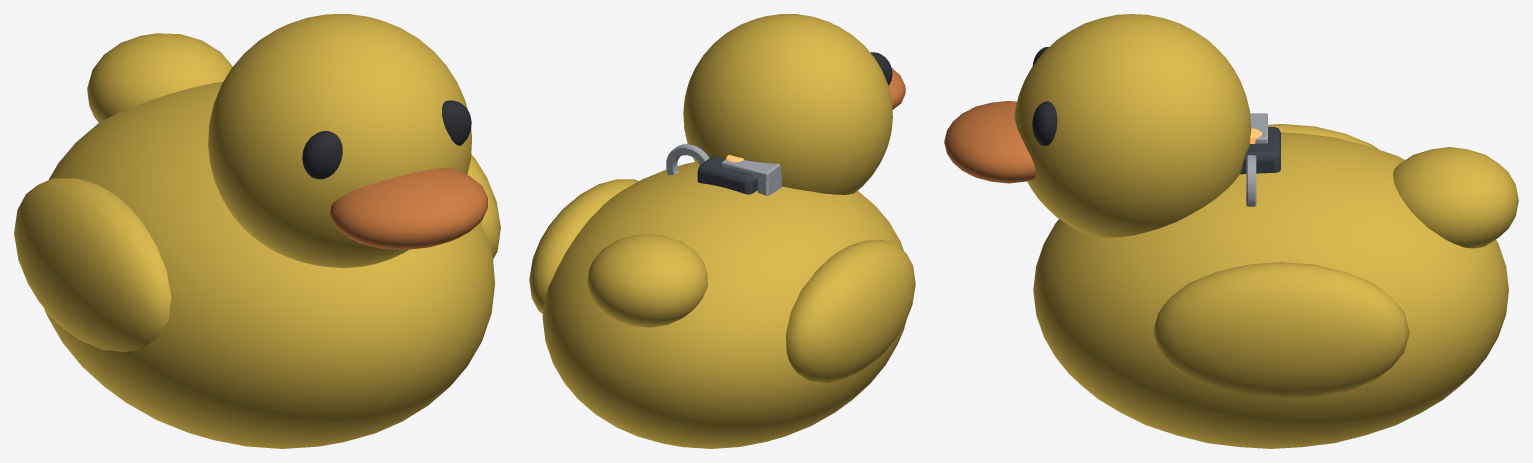
The model's file is items_upload_b6.glb.
3 renders of one model, left to right at view 1: azimuth 30°, elevation 25°; view 2: azimuth 150°, elevation 25°; view 3: azimuth 270°, elevation 25°, orthographic. The views are drawn at different scales.
Visible parts, largest first — view 1: duck_body__pd6b445, duck_beak__pc9773d, duck_eye__p2b2d33; view 2: duck_body__pd6b445, frag_fuse__p3b3f48, frag_spoon__pa3a8b0, frag_ring__pa3a8b0, duck_beak__pc9773d; view 3: duck_body__pd6b445, duck_beak__pc9773d, frag_fuse__p3b3f48, duck_eye__p2b2d33, frag_ring__pa3a8b0.
Boxes of the visible parts, x1,y1,x2,y2 form: duck_body__pd6b445: (14, 14, 500, 448); duck_beak__pc9773d: (330, 167, 487, 249); duck_eye__p2b2d33: (302, 100, 471, 179); duck_body__pd6b445: (529, 14, 915, 448); frag_fuse__p3b3f48: (697, 156, 757, 194); frag_spoon__pa3a8b0: (721, 159, 781, 195); frag_ring__pa3a8b0: (666, 144, 709, 175); duck_beak__pc9773d: (888, 68, 905, 109); duck_body__pd6b445: (1014, 14, 1518, 448); duck_beak__pc9773d: (944, 100, 1035, 183); frag_fuse__p3b3f48: (1240, 127, 1280, 174); duck_eye__p2b2d33: (1032, 47, 1057, 146); frag_ring__pa3a8b0: (1246, 155, 1256, 206).
Bounding box in the file's own units: 4.3 × 4.45 × 5.8.
